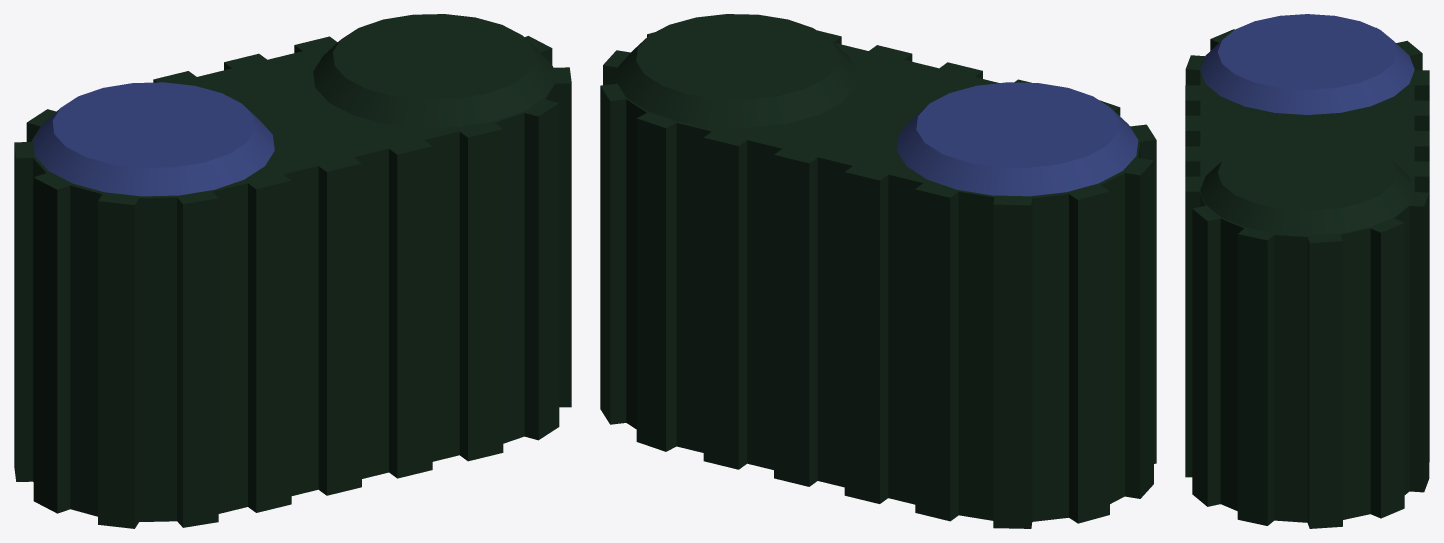
File: TrashCan_V1.fbx
The picture shows the model from 3 angles, left to right: view 1: azimuth 30°, elevation 25°; view 2: azimuth 150°, elevation 25°; view 3: azimuth 270°, elevation 25°; orthographic projection. The views are drawn at different scales.
Visible parts, largest first — view 1: pCylinder4; view 2: pCylinder4; view 3: pCylinder4.
Boxes of the visible parts, <box> form: pCylinder4: <box>14,14,571,528</box>; pCylinder4: <box>600,14,1156,528</box>; pCylinder4: <box>1185,14,1429,528</box>.
Size of the model in its own units: 4.95 by 3.13 by 2.28.
